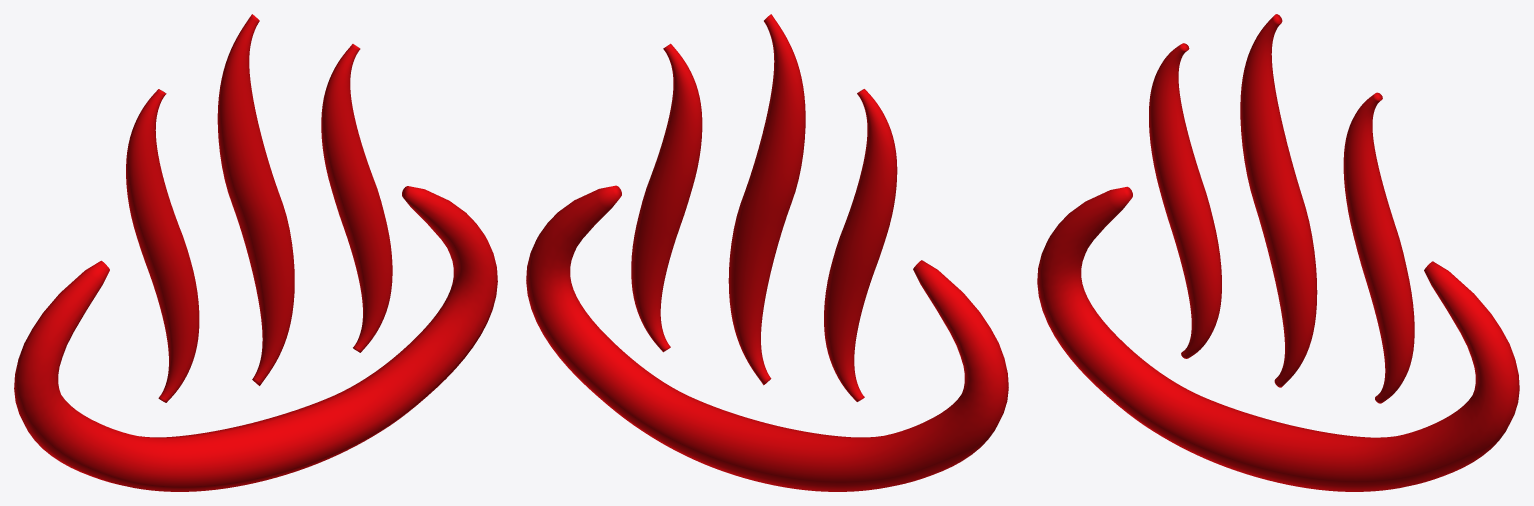
File: onsen.glb
The picture shows the model from 3 angles, left to right: view 1: azimuth 30°, elevation 25°; view 2: azimuth 150°, elevation 25°; view 3: azimuth 330°, elevation 25°; orthographic projection.
Visible parts, largest first — view 1: NURBSパス, NURBSパス.002, NURBSパス.001, NURBSパス.003; view 2: NURBSパス, NURBSパス.002, NURBSパス.001, NURBSパス.003; view 3: NURBSパス, NURBSパス.002, NURBSパス.001, NURBSパス.003.
Boxes of the visible parts, bbox=[...] form: NURBSパス: bbox=[14, 186, 497, 491]; NURBSパス.002: bbox=[217, 14, 294, 385]; NURBSパス.001: bbox=[126, 89, 199, 402]; NURBSパス.003: bbox=[321, 44, 392, 352]; NURBSパス: bbox=[526, 185, 1008, 491]; NURBSパス.002: bbox=[728, 14, 805, 385]; NURBSパス.001: bbox=[824, 89, 897, 401]; NURBSパス.003: bbox=[631, 43, 702, 352]; NURBSパス: bbox=[1037, 186, 1519, 491]; NURBSパス.002: bbox=[1240, 14, 1317, 387]; NURBSパス.001: bbox=[1149, 43, 1221, 358]; NURBSパス.003: bbox=[1343, 92, 1414, 403].
Size of the model in its own units: 6.65 by 6.2 by 0.7046.
